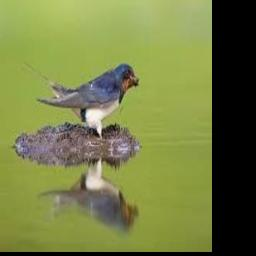Swallow: (22, 62, 138, 139)
